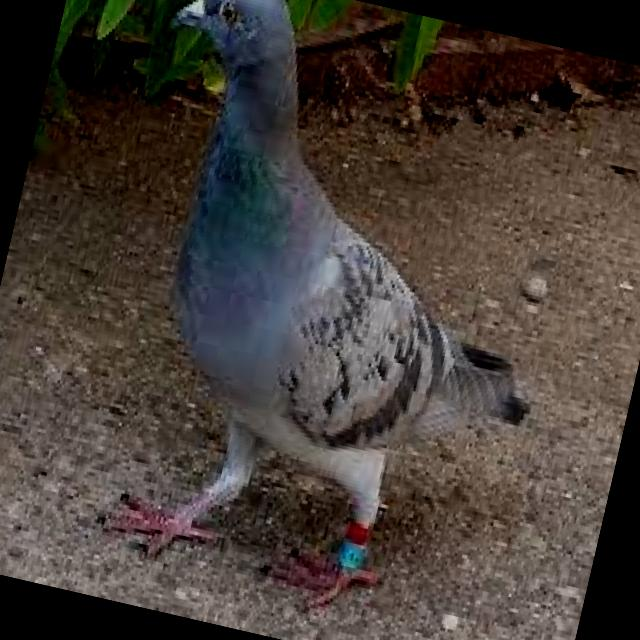bird: (36, 0, 600, 640)
